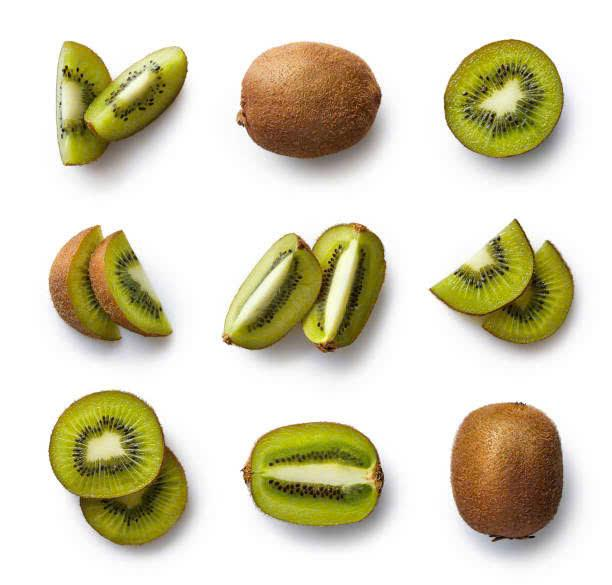kiwi: (48, 386, 193, 541), (449, 390, 573, 549), (46, 34, 187, 173), (236, 416, 387, 542), (232, 42, 385, 166), (431, 218, 571, 344), (45, 214, 177, 347), (436, 34, 562, 161), (225, 230, 312, 352), (318, 220, 387, 348)
